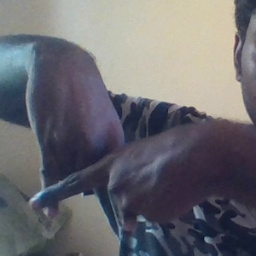H: (24, 114, 158, 236)
